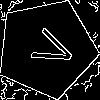V: (21, 23, 78, 72)
